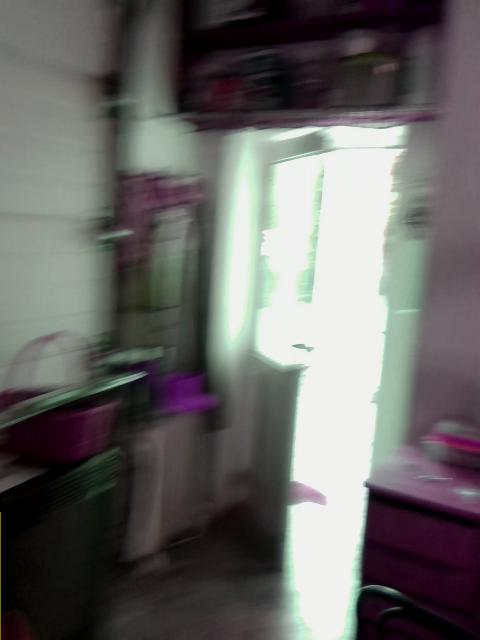semi_door: (235, 121, 408, 586)
